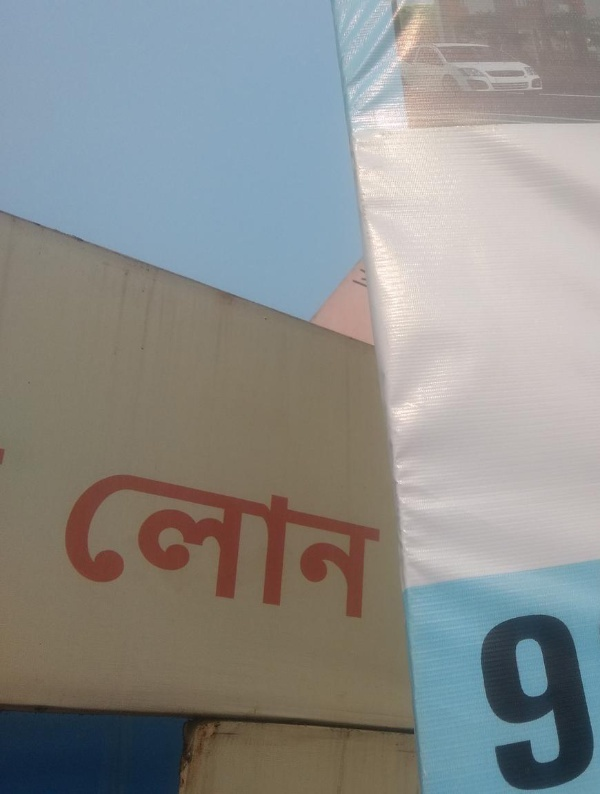text: (81, 448, 96, 636), (97, 448, 112, 636), (113, 448, 128, 636), (129, 448, 144, 636), (145, 448, 160, 636), (161, 448, 176, 636), (177, 448, 192, 636), (193, 448, 208, 636), (209, 448, 224, 636), (225, 448, 240, 636), (241, 448, 256, 636), (257, 448, 272, 636), (273, 448, 288, 636), (289, 448, 304, 636), (305, 448, 320, 636), (321, 448, 336, 636), (337, 448, 352, 636), (353, 448, 368, 636), (369, 448, 384, 636), (481, 610, 496, 790), (497, 610, 512, 790), (513, 610, 528, 790), (529, 610, 544, 790), (545, 610, 560, 790), (561, 610, 576, 790), (577, 610, 592, 790), (69, 448, 80, 636), (593, 610, 598, 790), (385, 448, 389, 636), (1, 431, 16, 471)
